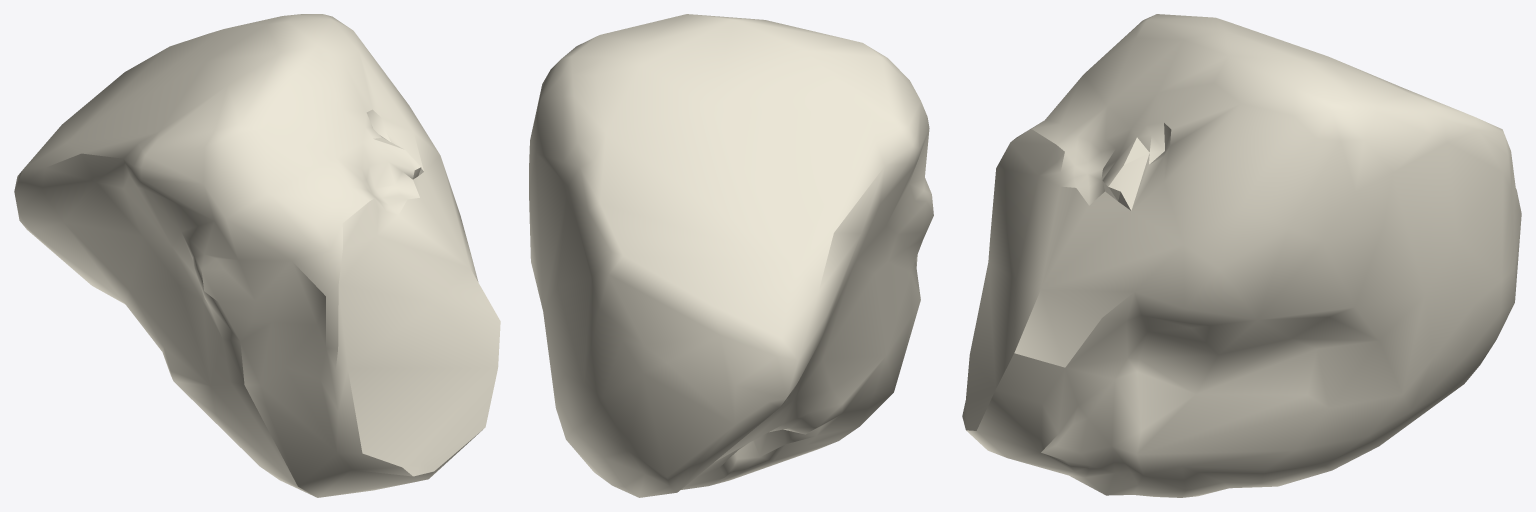
Rendered from fma24439.glb.
The picture shows the model from 3 angles, left to right: view 1: azimuth 30°, elevation 25°; view 2: azimuth 150°, elevation 25°; view 3: azimuth 270°, elevation 25°; orthographic projection. The views are drawn at different scales.
Parts seen in each view (by area): view 1: FMA24439; view 2: FMA24439; view 3: FMA24439.
Part boxes in pixels (x1,y1,x2,y2): FMA24439: [14, 14, 500, 497]; FMA24439: [529, 14, 933, 497]; FMA24439: [962, 14, 1521, 497].
Bounding box in the file's own units: 0.0113 × 0.0139 × 0.0157.
